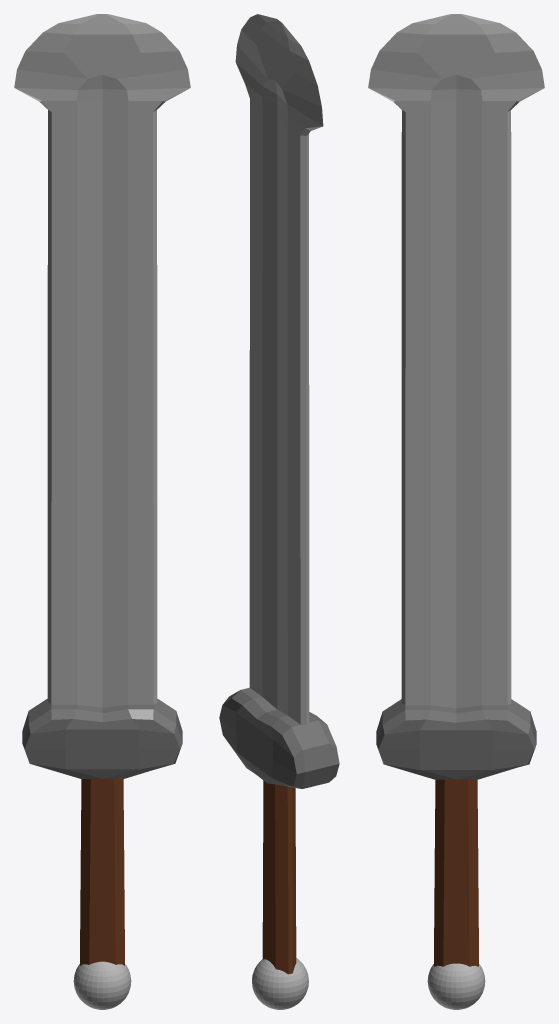
Rendered from sword1.fbx.
The picture shows the model from 3 angles, left to right: view 1: azimuth 90°, elevation 25°; view 2: azimuth 210°, elevation 25°; view 3: azimuth 270°, elevation 25°; orthographic projection.
Parts seen in each view (by area): view 1: Меч1; view 2: Меч1; view 3: Меч1.
Boxes of the visible parts, <box> form: Меч1: <box>14,14,190,1009</box>; Меч1: <box>219,14,339,1009</box>; Меч1: <box>368,14,544,1009</box>.
Bounding box in the file's own units: 63.85 × 1191 × 192.
